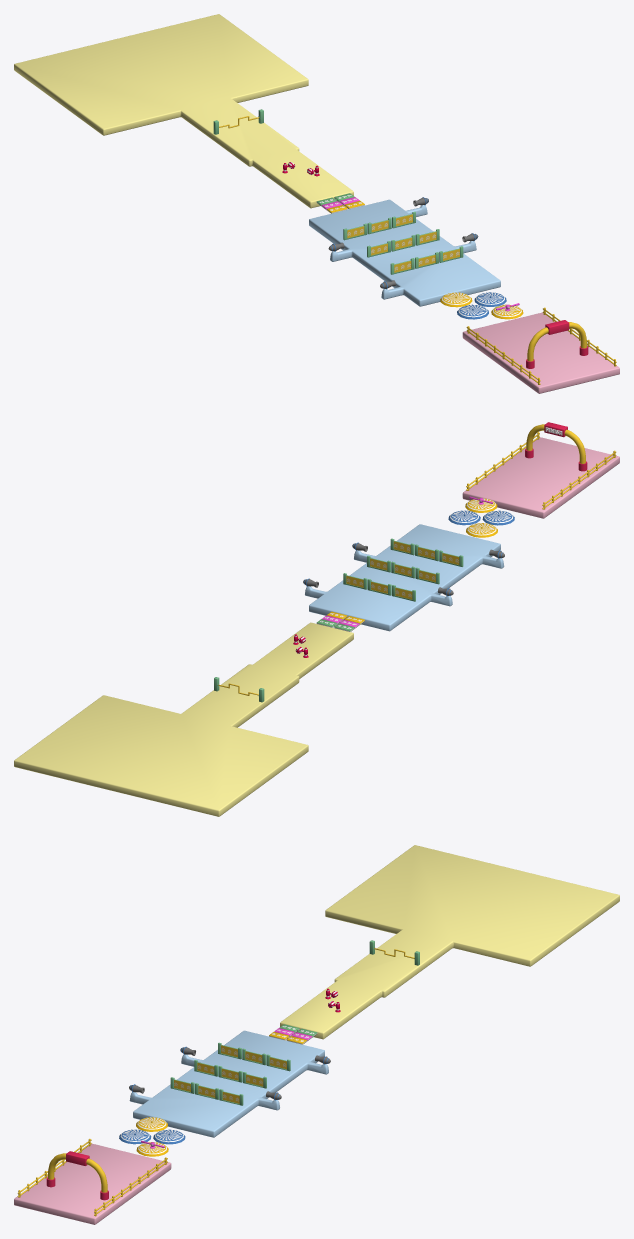
Rendered from map1.fbx.
3 renders of one model, top to bottom at view 1: azimuth 30°, elevation 25°; view 2: azimuth 150°, elevation 25°; view 3: azimuth 330°, elevation 25°, orthographic.
Parts seen in each view (by area): view 1: zemin1, zemin2, zemin3, Finish; view 2: zemin1, zemin2, zemin3, Finish; view 3: zemin1, zemin2, zemin3, Finish.
Boxes of the visible parts, box(x1,y1,x2,y2) form: zemin1: box(14, 14, 353, 208); zemin2: box(309, 199, 500, 306); zemin3: box(462, 312, 619, 393); Finish: box(526, 320, 588, 368); zemin1: box(14, 622, 353, 816); zemin2: box(305, 524, 504, 631); zemin3: box(462, 437, 619, 518); Finish: box(525, 422, 587, 471); zemin1: box(280, 845, 619, 1039); zemin2: box(129, 1030, 328, 1137); zemin3: box(14, 1143, 171, 1224); Finish: box(46, 1151, 108, 1200).
Size of the model in its own units: 232 by 47.57 by 905.
